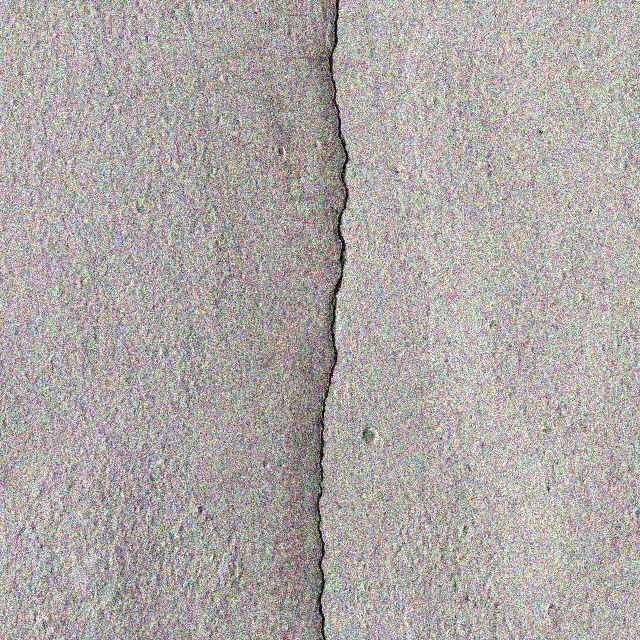SurfaceCrack: (263, 1, 396, 640)
